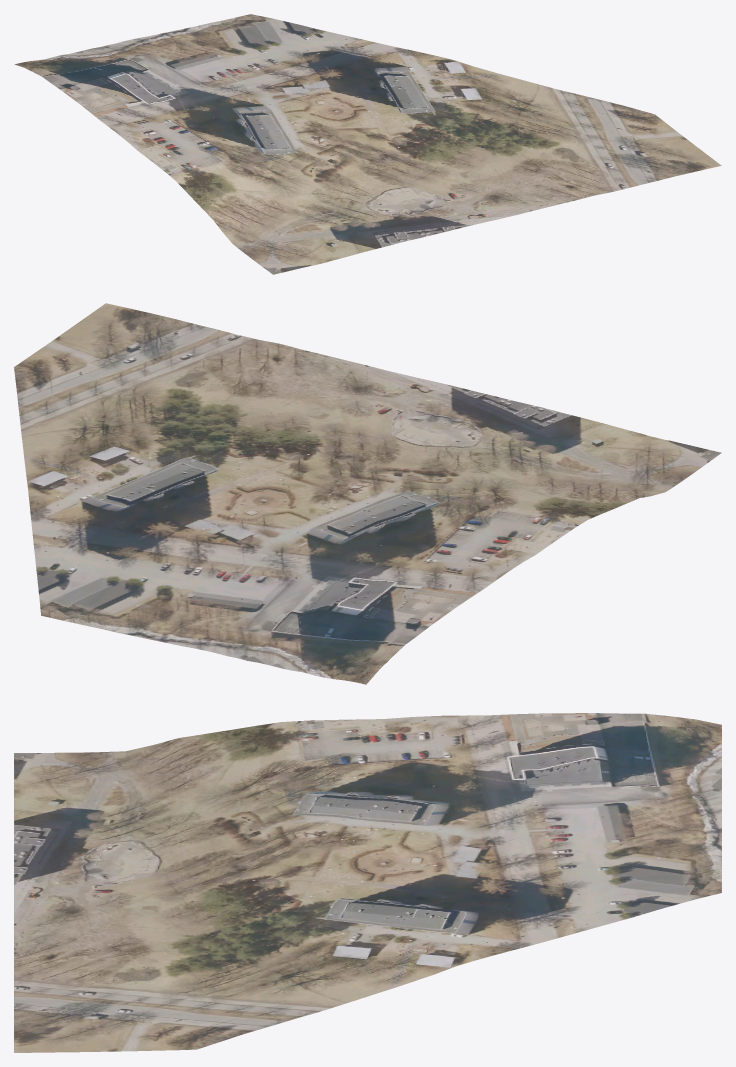
The model's file is CM_Terrain_24492916_6817951.fbx.
3 renders of one model, top to bottom at view 1: azimuth 30°, elevation 25°; view 2: azimuth 150°, elevation 25°; view 3: azimuth 270°, elevation 25°, orthographic. The views are drawn at different scales.
Parts seen in each view (by area): view 1: CM_Terrain_24492916_6817951_LOD0; view 2: CM_Terrain_24492916_6817951_LOD0; view 3: CM_Terrain_24492916_6817951_LOD0.
Boxes of the visible parts, left/top/right/bottom form: CM_Terrain_24492916_6817951_LOD0: left=14, top=14, right=721, bottom=274; CM_Terrain_24492916_6817951_LOD0: left=14, top=303, right=721, bottom=684; CM_Terrain_24492916_6817951_LOD0: left=14, top=713, right=721, bottom=1052.
Size of what is drawn, in the model's own units: 205 by 13.05 by 205.
